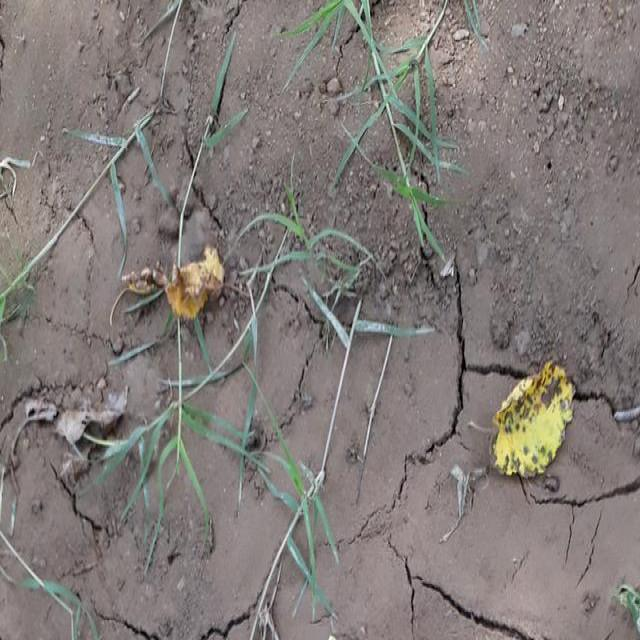weed: (332, 0, 471, 264)
